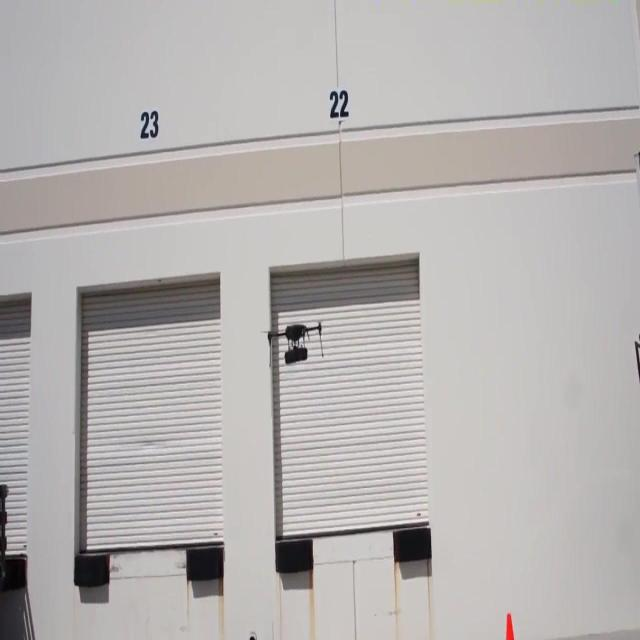drone: (262, 321, 326, 367)
